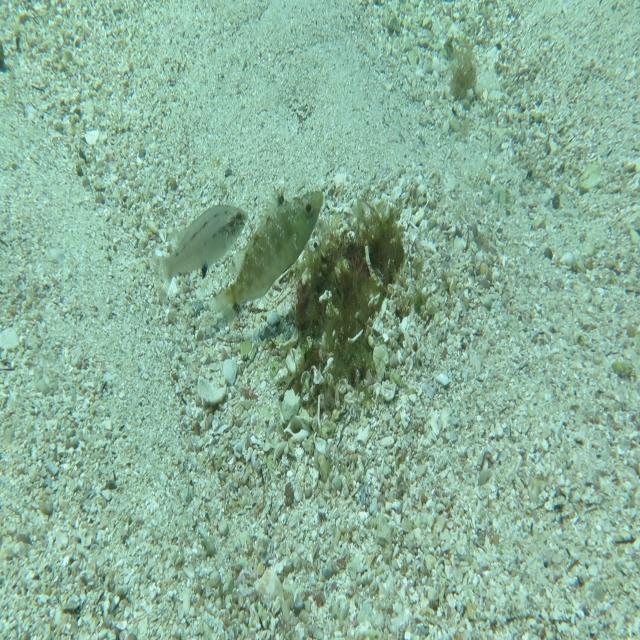FAN: (207, 183, 323, 327)
core_nest: (344, 228, 398, 275)
female: (150, 201, 248, 302)
nest: (286, 179, 424, 420)
